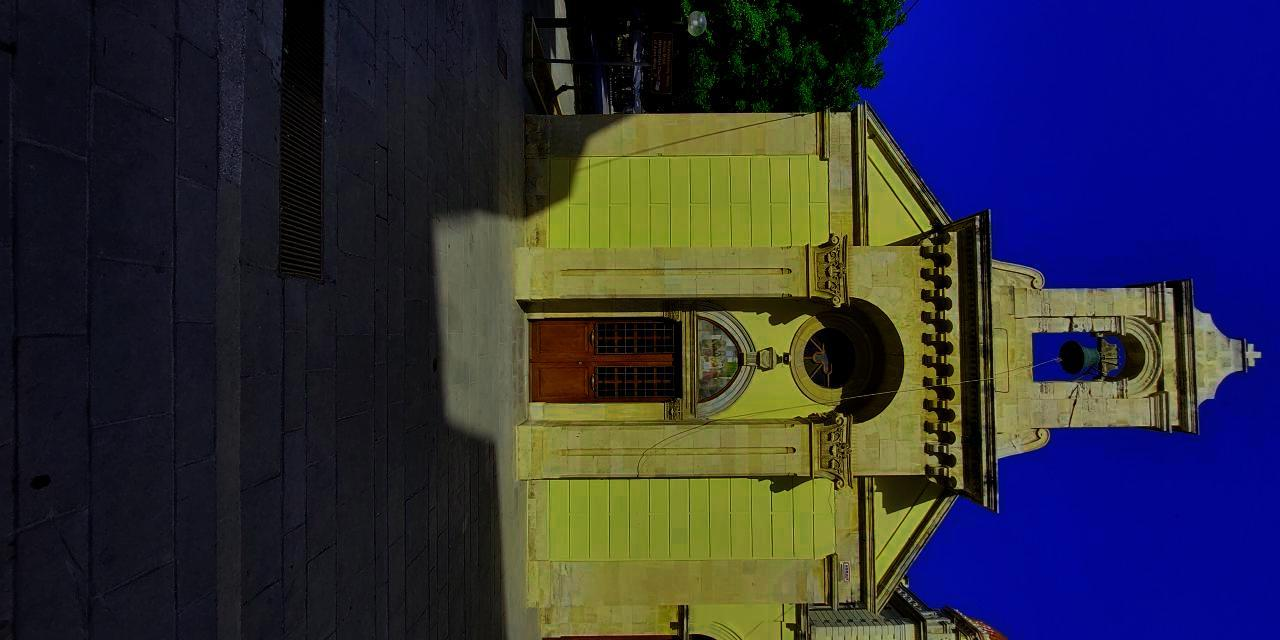Agios Minas: (705, 1, 1203, 640)
